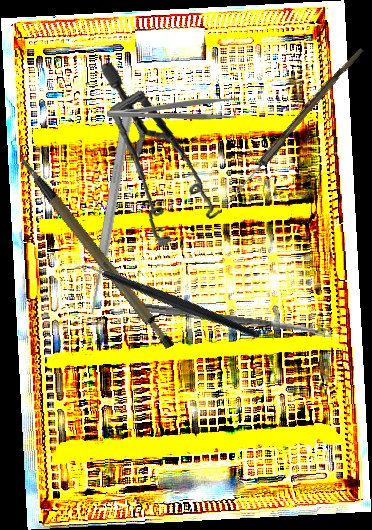Chopper: (65, 207, 263, 396)
Dressing Forceps: (107, 97, 236, 120)
Pusher: (84, 95, 138, 316)
Scalpel Handle: (18, 137, 179, 366)
Speculum: (83, 62, 236, 253)
Surgical Spoon: (222, 44, 364, 210), (135, 302, 332, 339)
